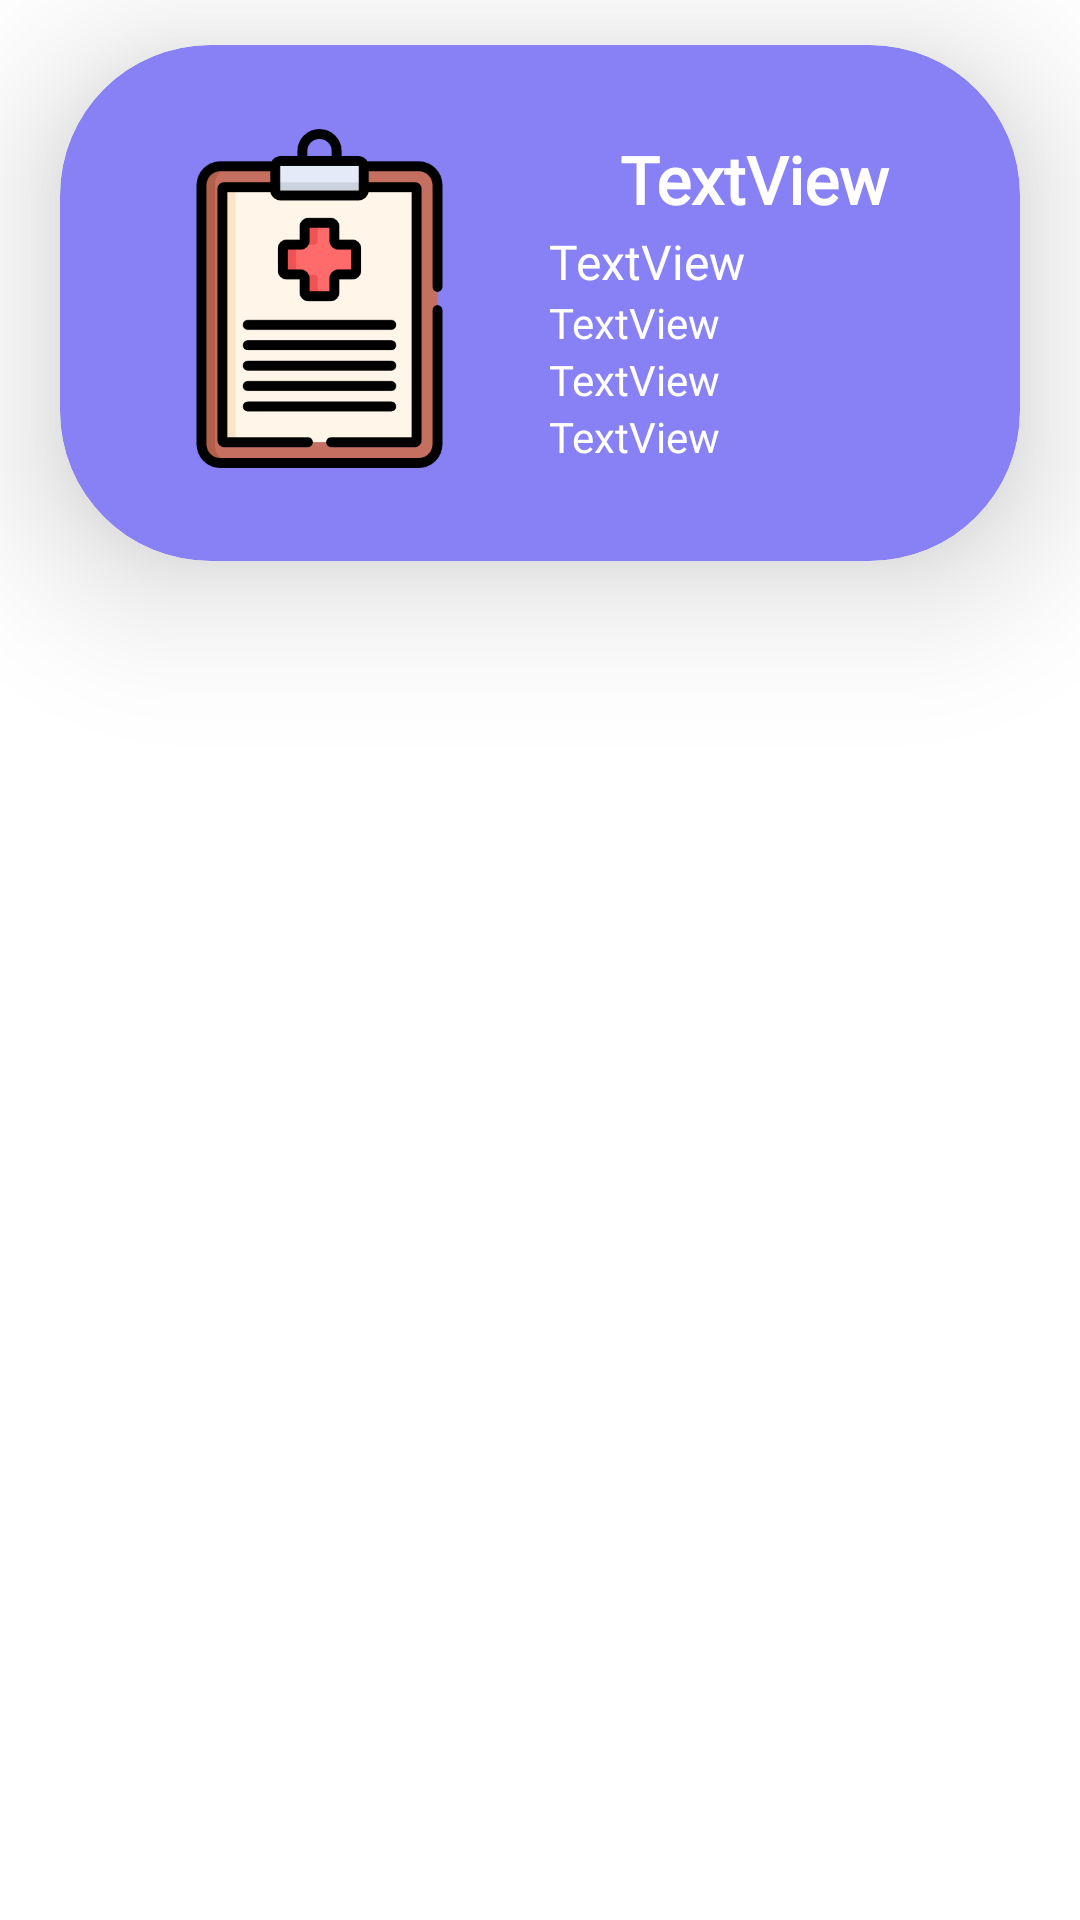

Icon click points for this 1080 × 1920 phone screenshot, format (x,y):
historial: (319,298)
